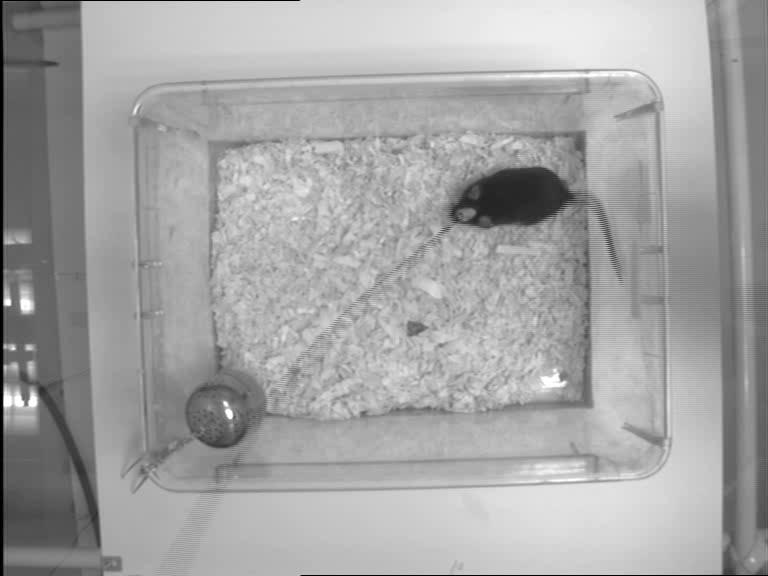mice: (448, 165, 625, 282)
